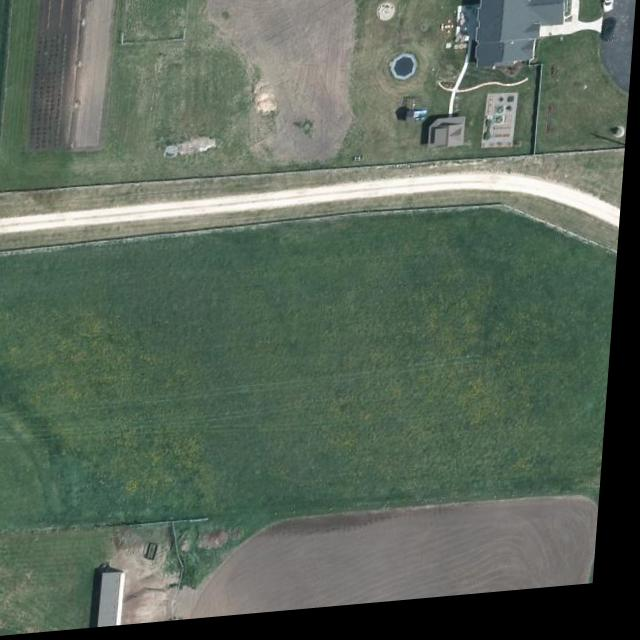vehicle: (600, 27, 620, 59), (602, 0, 618, 25)
